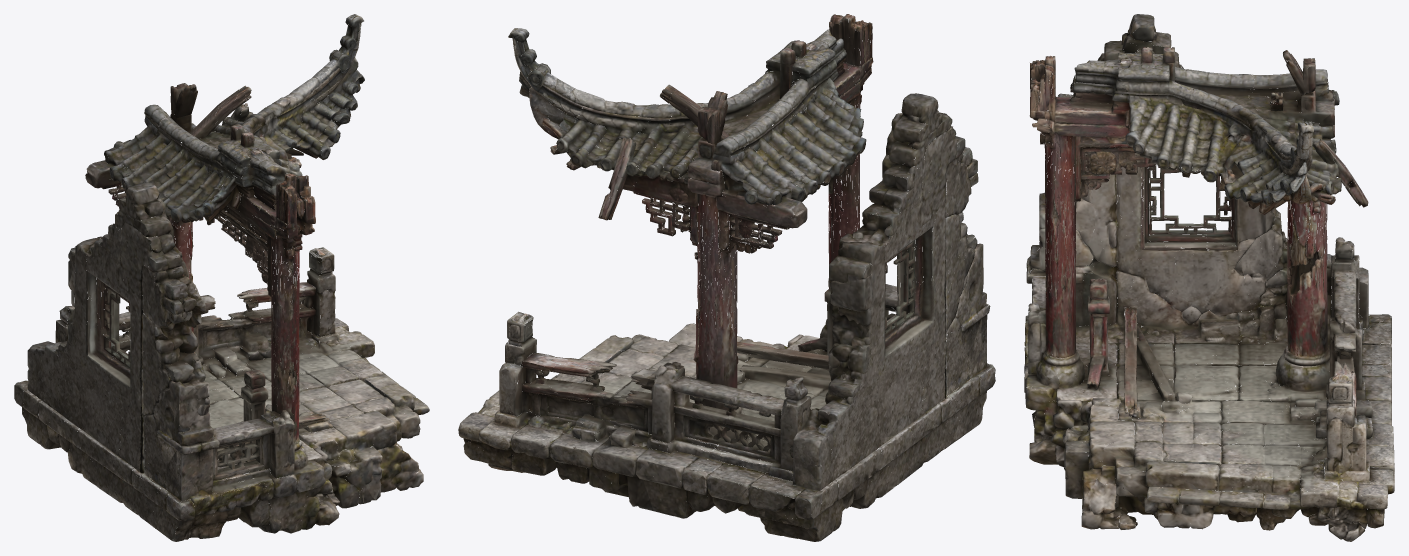
The model's file is ruin-01.glb.
3 views of the same model, side by side, from view 1: azimuth 30°, elevation 25°; view 2: azimuth 150°, elevation 25°; view 3: azimuth 270°, elevation 25° (orthographic). The views are drawn at different scales.
Parts seen in each view (by area): view 1: tripo_node_fb140221-1c25-404e-bb73-2c8c6a3cebb1; view 2: tripo_node_fb140221-1c25-404e-bb73-2c8c6a3cebb1; view 3: tripo_node_fb140221-1c25-404e-bb73-2c8c6a3cebb1.
Boxes of the visible parts, x1=… form: tripo_node_fb140221-1c25-404e-bb73-2c8c6a3cebb1: x1=14, y1=14, x2=429, y2=541; tripo_node_fb140221-1c25-404e-bb73-2c8c6a3cebb1: x1=458, y1=14, x2=995, y2=541; tripo_node_fb140221-1c25-404e-bb73-2c8c6a3cebb1: x1=1024, y1=14, x2=1394, y2=541.
Bounding box in the file's own units: 0.8489 × 0.9787 × 0.7743.
Materials: 1 (1 with a texture image).
